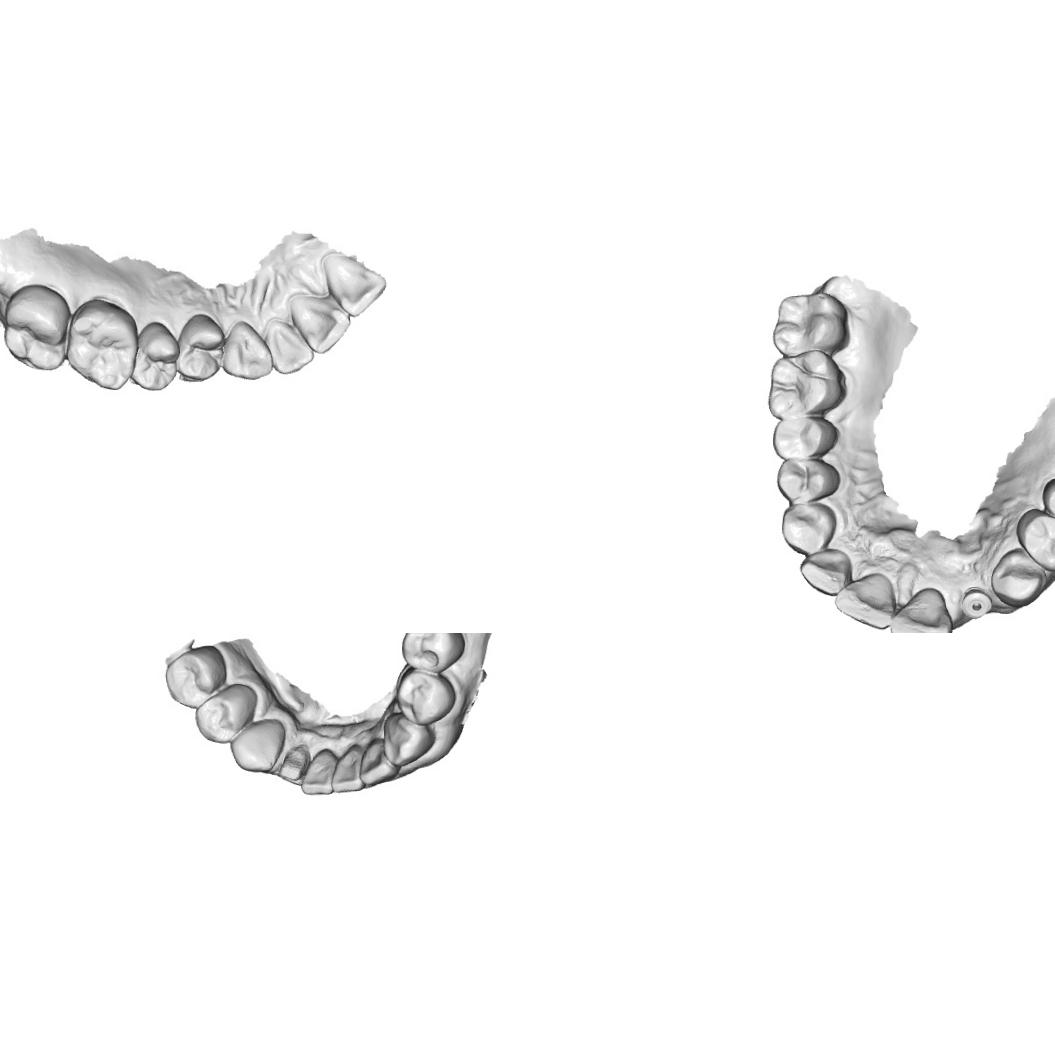canine: (989, 545, 1048, 610), (217, 318, 274, 382), (776, 500, 838, 558), (227, 718, 287, 775), (382, 710, 436, 766)
crown: (278, 745, 310, 781)
implant: (958, 584, 994, 620)
incisor: (324, 248, 388, 319), (834, 575, 901, 633), (293, 294, 352, 355), (886, 581, 954, 633), (798, 546, 855, 599), (269, 323, 315, 377), (358, 737, 402, 788), (329, 744, 364, 793), (300, 748, 332, 795)
molar: (63, 295, 141, 393), (0, 281, 72, 372), (762, 346, 850, 420), (770, 289, 850, 360)
premolar: (162, 644, 228, 710), (128, 316, 182, 394), (173, 310, 226, 386), (394, 668, 456, 727), (774, 455, 841, 504), (771, 415, 839, 461), (193, 688, 247, 744), (1013, 506, 1055, 573), (400, 633, 467, 673), (1040, 474, 1055, 534)
